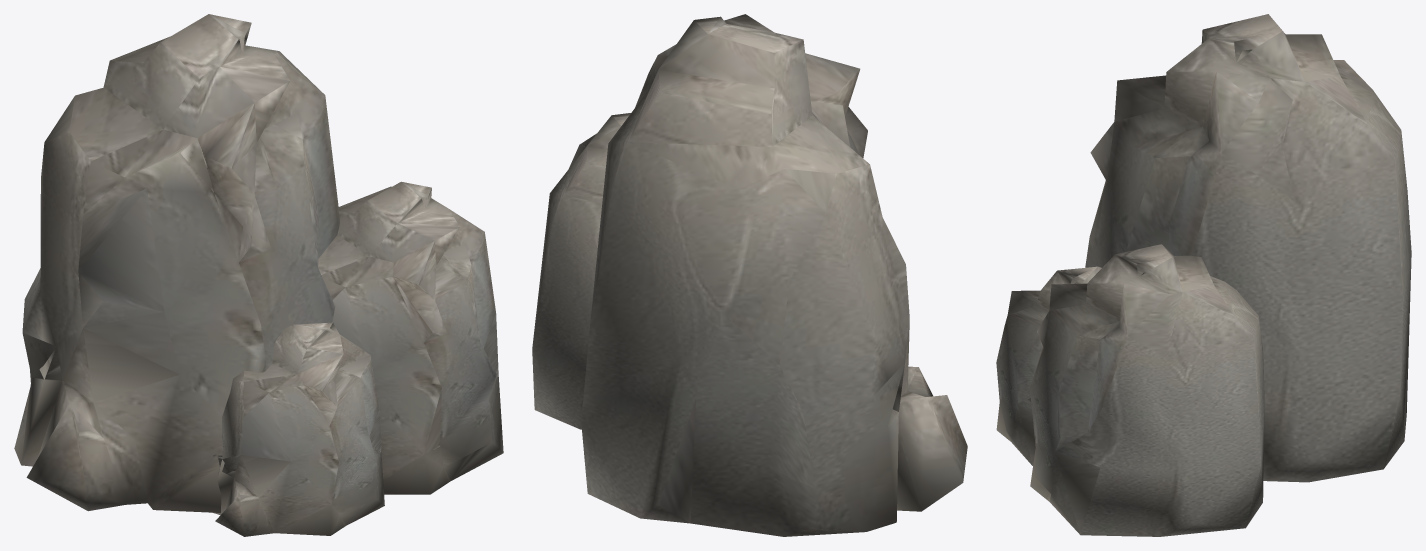
The model's file is cliff_spire.gltf.
The picture shows the model from 3 angles, left to right: view 1: azimuth 30°, elevation 25°; view 2: azimuth 150°, elevation 25°; view 3: azimuth 270°, elevation 25°; orthographic projection. The views are drawn at different scales.
Parts seen in each view (by area): view 1: cliff_spire; view 2: cliff_spire; view 3: cliff_spire.
Part boxes in pixels (x1=…): cliff_spire: x1=14, y1=14, x2=503, y2=536; cliff_spire: x1=532, y1=14, x2=967, y2=536; cliff_spire: x1=996, y1=14, x2=1411, y2=536.
Size of the model in its own units: 1.14 by 1.08 by 0.99.
Materials: 1 (1 with a texture image).
